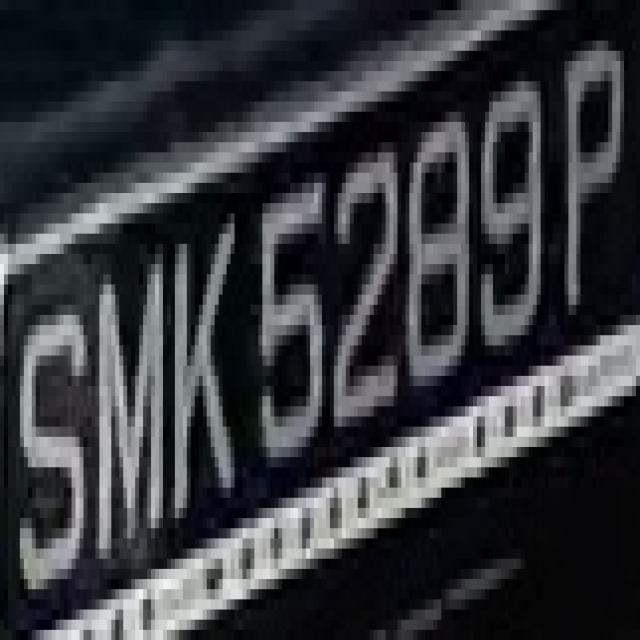2: (318, 142, 409, 468)
5: (246, 132, 326, 478)
8: (390, 122, 485, 447)
9: (465, 51, 561, 376)
K: (155, 183, 250, 569)
M: (79, 234, 183, 589)
P: (557, 41, 624, 376)
S: (8, 274, 95, 600)
